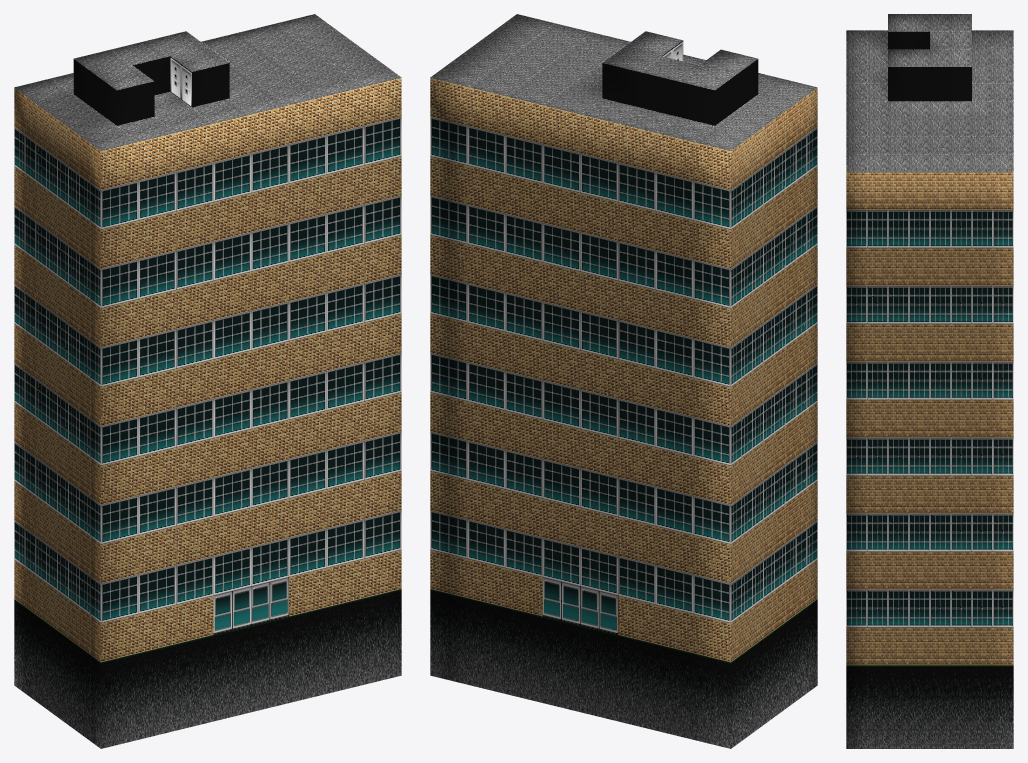
Rendered from kantoor_mod3_2a.fbx.
The picture shows the model from 3 angles, left to right: view 1: azimuth 30°, elevation 25°; view 2: azimuth 150°, elevation 25°; view 3: azimuth 270°, elevation 25°; orthographic projection. The views are drawn at different scales.
Visible parts, largest first — view 1: kantoor_mod3_1a; view 2: kantoor_mod3_1a; view 3: kantoor_mod3_1a.
Part boxes in pixels (x1,y1,x2,y2): kantoor_mod3_1a: (14, 14, 401, 748); kantoor_mod3_1a: (430, 14, 817, 748); kantoor_mod3_1a: (846, 14, 1013, 748).
Bounding box in the file's own units: 2880 × 5796 × 1440.
